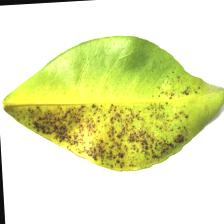canker: (39, 110, 158, 153)
